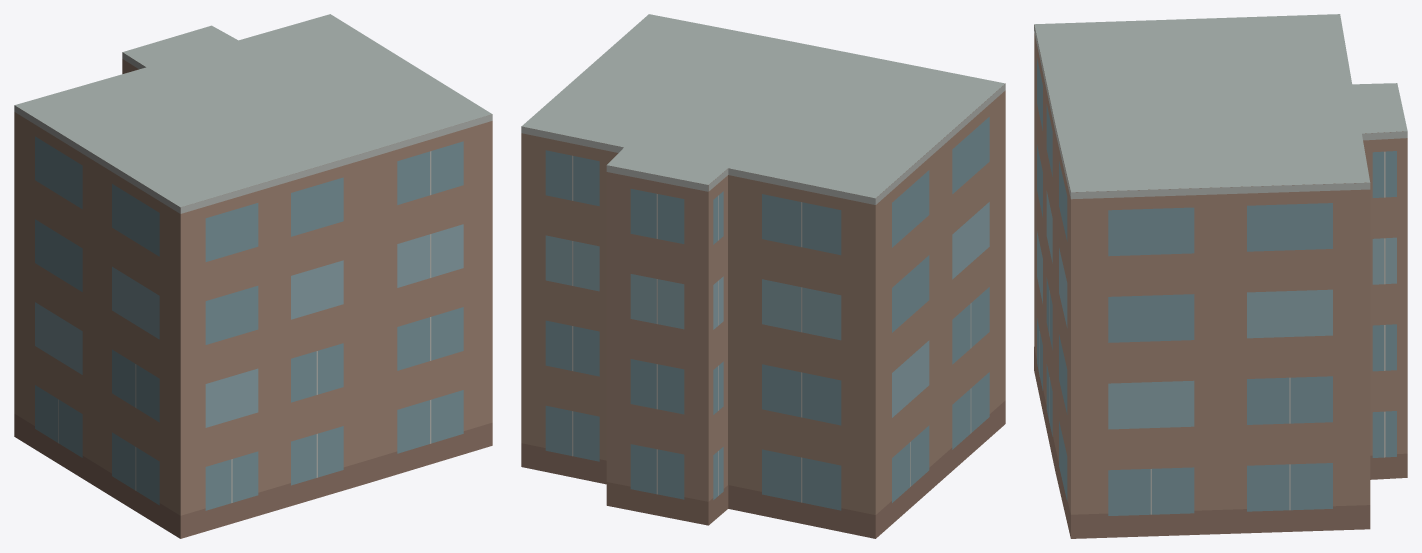
Rendered from survey-upis-32701617.glb.
3 views of the same model, side by side, from view 1: azimuth 30°, elevation 25°; view 2: azimuth 150°, elevation 25°; view 3: azimuth 270°, elevation 25° (orthographic). The views are drawn at different scales.
Visible parts, largest first — view 1: survey-upis-32701617.tmp; view 2: survey-upis-32701617.tmp; view 3: survey-upis-32701617.tmp.
Boxes of the visible parts, box(x1,y1,x2,y2) form: survey-upis-32701617.tmp: box(14, 14, 492, 538); survey-upis-32701617.tmp: box(521, 14, 1005, 538); survey-upis-32701617.tmp: box(1034, 14, 1407, 538).
Size of the model in its own units: 13.47 by 12.2 by 11.92.
